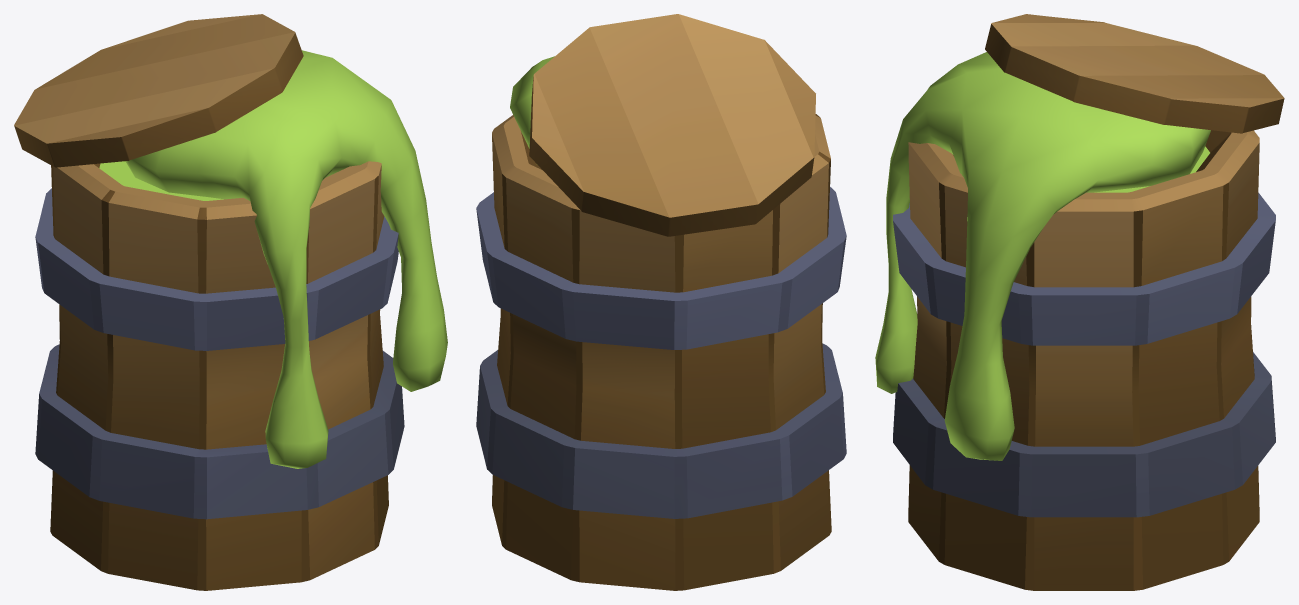
Rendered from factory-goo-barrel.obj.
3 renders of one model, left to right at view 1: azimuth 30°, elevation 25°; view 2: azimuth 150°, elevation 25°; view 3: azimuth 270°, elevation 25°, orthographic. The views are drawn at different scales.
Parts seen in each view (by area): view 1: factory-goo-barrel; view 2: factory-goo-barrel; view 3: factory-goo-barrel.
Boxes of the visible parts, x1=… form: factory-goo-barrel: x1=14, y1=14, x2=447, y2=590; factory-goo-barrel: x1=476, y1=14, x2=846, y2=590; factory-goo-barrel: x1=875, y1=14, x2=1284, y2=590.
Bounding box in the file's own units: 0.8623 × 1.13 × 0.8701.
1 material, 1 textured.
